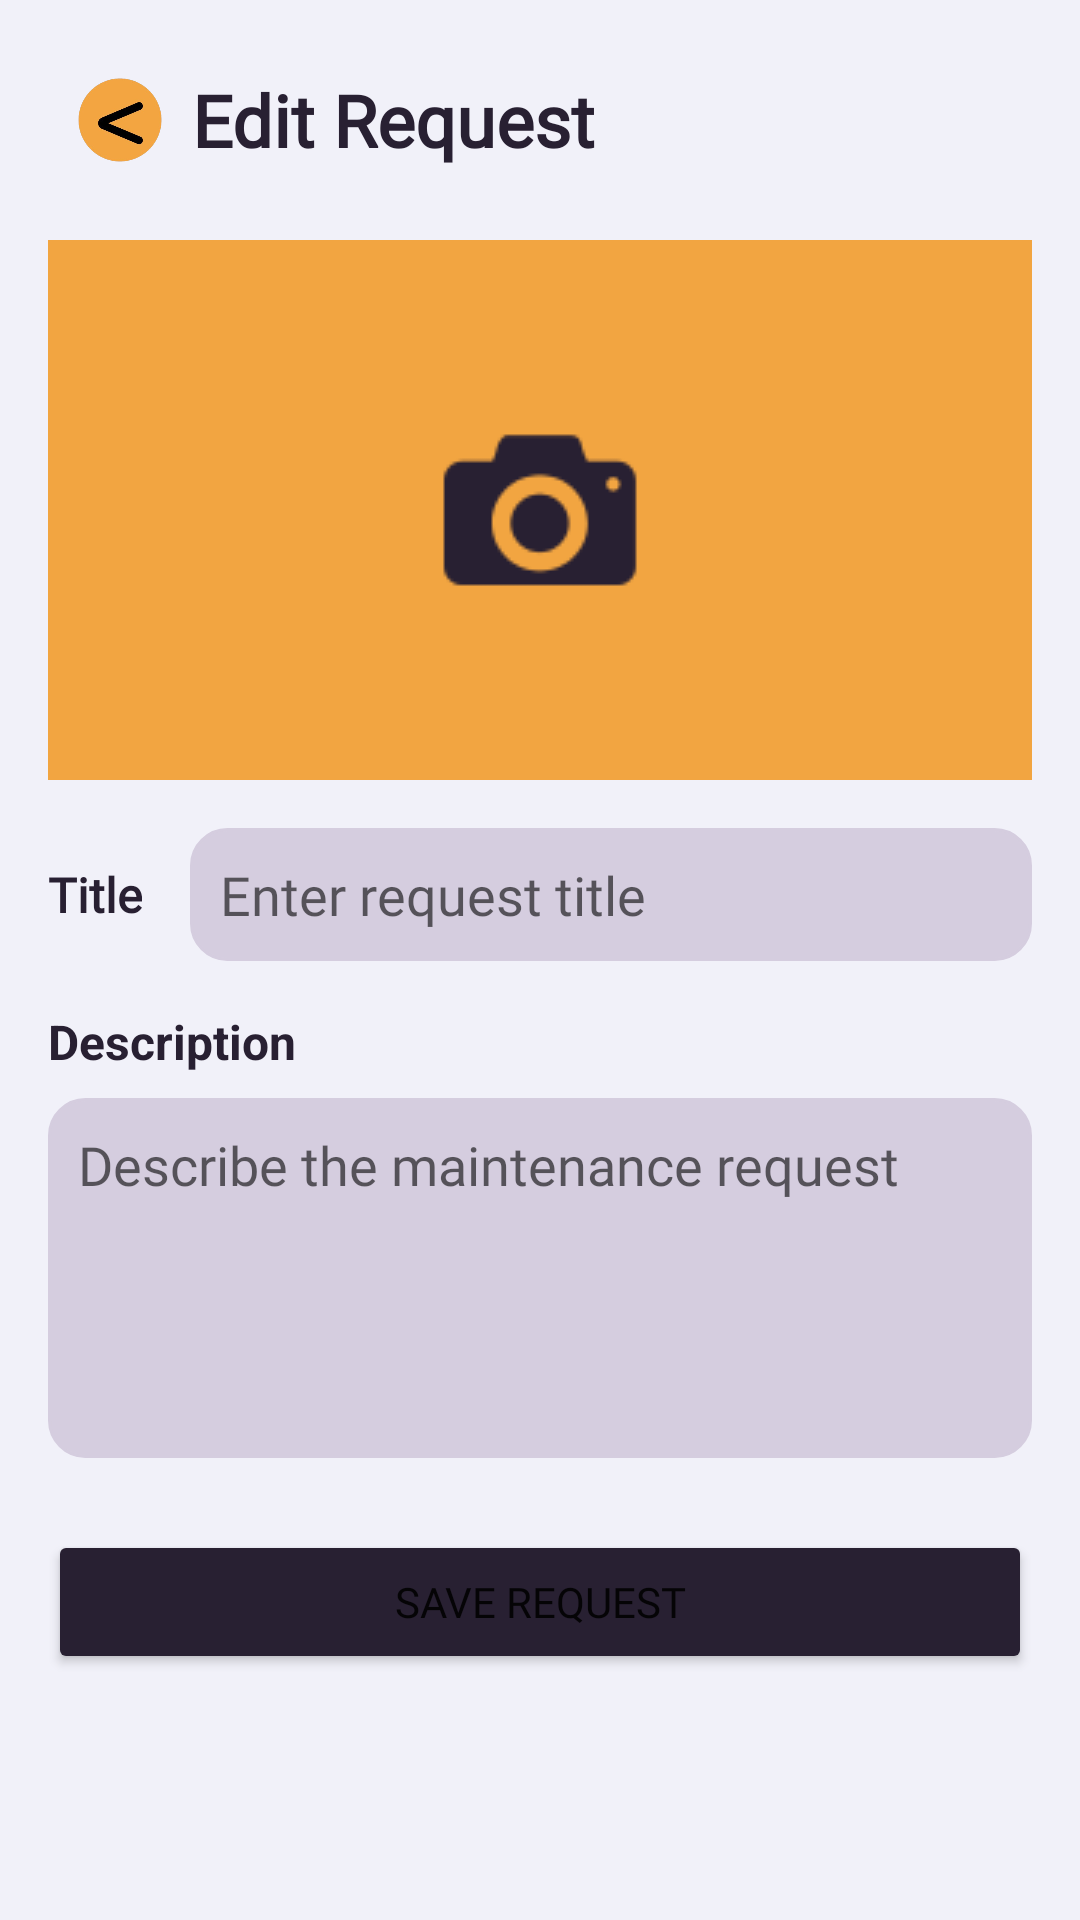

Named icons in this screenshot (1080px×1920px) and their centers, point (x, y):
Back Button: point (120, 120)
